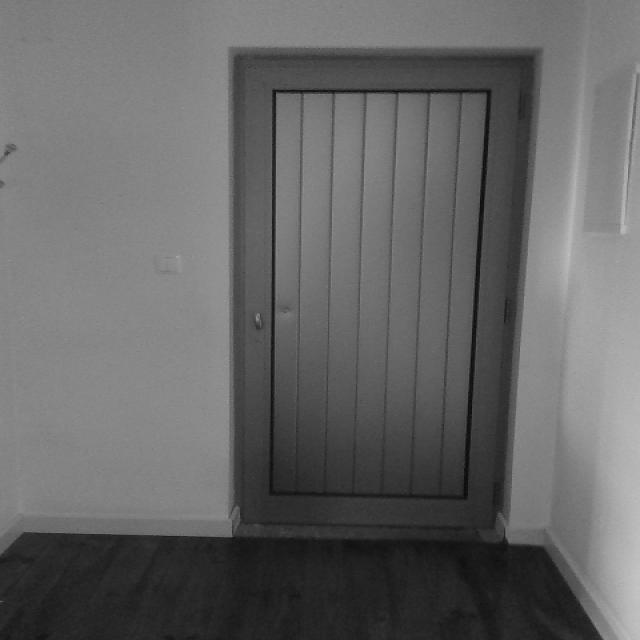door: (217, 44, 558, 540)
